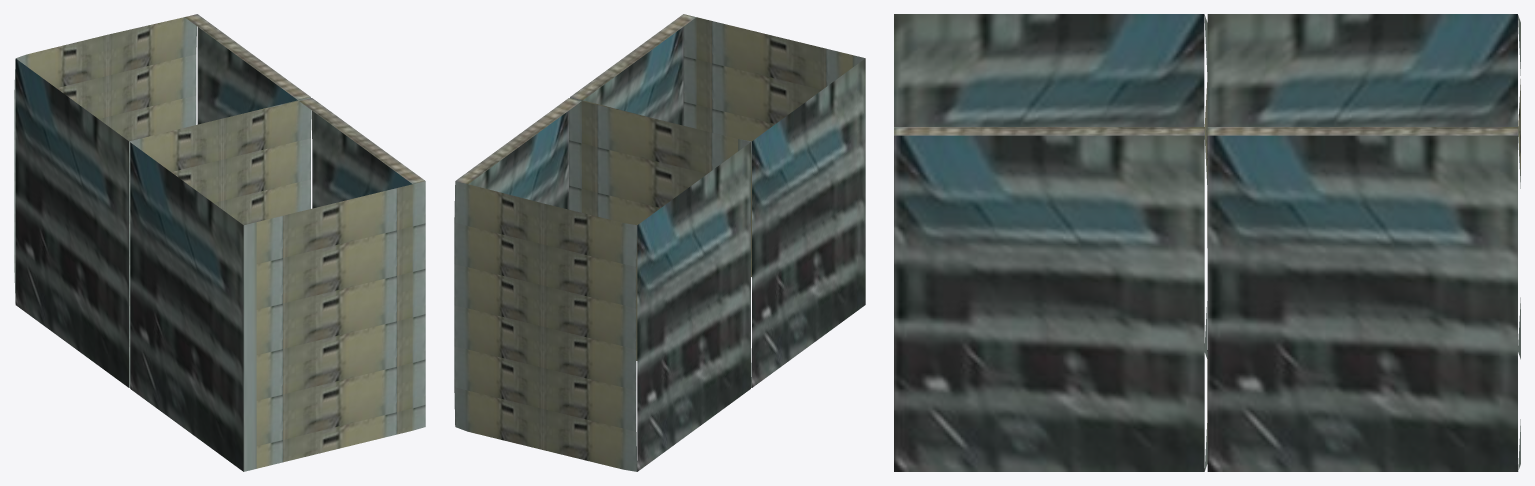
3 views of the same model, side by side, from view 1: azimuth 30°, elevation 25°; view 2: azimuth 150°, elevation 25°; view 3: azimuth 270°, elevation 25° (orthographic). The views are drawn at different scales.
Visible parts, largest first — view 1: orto-edificio22-completo.052; view 2: orto-edificio22-completo.052; view 3: orto-edificio22-completo.052.
Part boxes in pixels (box(x1,y1,x2,y2)): orto-edificio22-completo.052: box(14, 14, 425, 471); orto-edificio22-completo.052: box(454, 14, 865, 471); orto-edificio22-completo.052: box(894, 14, 1520, 471).
Bounding box in the file's own units: 1.62 × 2.09 × 3.52.
Materials: 2 (2 with a texture image).
